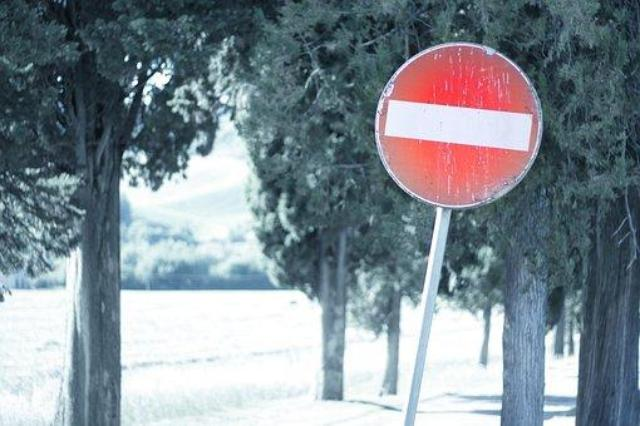B2: (372, 40, 544, 210)
